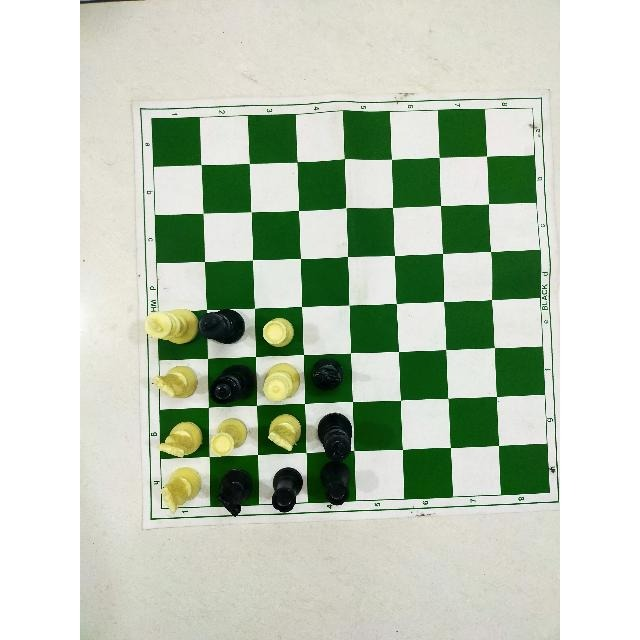black-king: (313, 409, 357, 465), (198, 305, 250, 344)
black-knight: (213, 463, 259, 523), (309, 358, 347, 396)
black-queen: (208, 362, 257, 408)
black-rook: (266, 463, 304, 519), (317, 459, 356, 509)
white-king: (141, 306, 200, 348)
white-knight: (158, 464, 206, 518), (157, 414, 207, 460), (150, 363, 201, 403), (262, 410, 305, 454)
white-queen: (260, 356, 302, 403)
white-rook: (210, 414, 250, 458), (258, 314, 295, 350)
